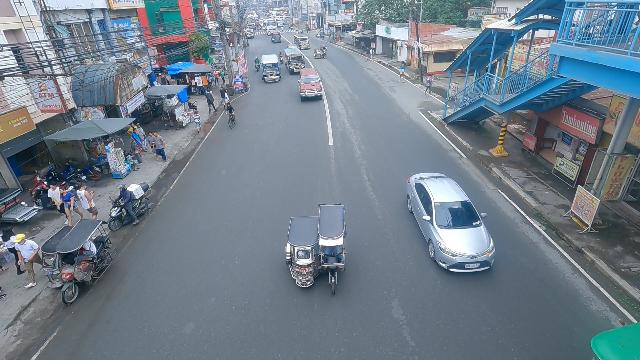car: (405, 171, 497, 276), (298, 67, 324, 103)
jeepney: (260, 54, 282, 84), (284, 47, 307, 75), (293, 33, 311, 51), (270, 30, 282, 44)
motorcycle: (253, 57, 262, 72), (278, 52, 285, 65), (295, 29, 299, 36), (288, 22, 291, 29), (301, 30, 304, 36), (291, 24, 293, 30)
truck: (265, 22, 278, 36)
